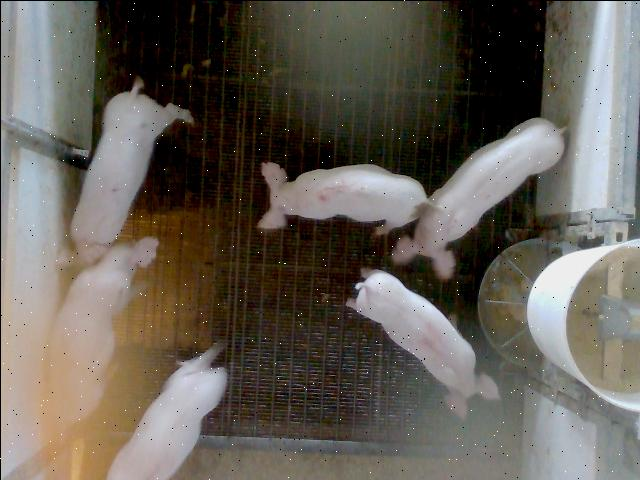pig-4: (345, 269, 499, 417)
pig-5: (258, 163, 428, 232)
